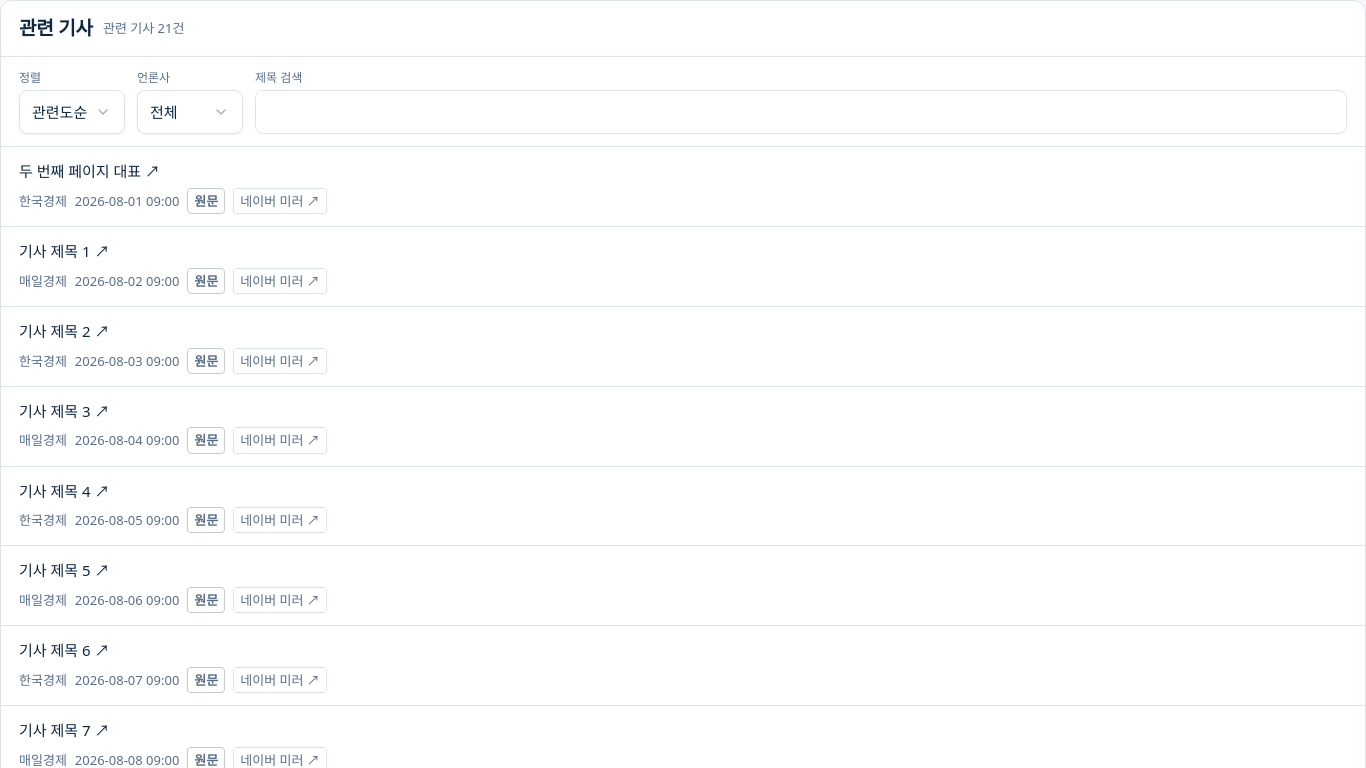
Test: ClusterArticlesList similar-article groups › focuses a visible duplicate when the canonical occurrence is on another page
Step 1. Select "최신순" in the dropdown labelled "정렬" → point(72, 112), box [19,90,125,134]
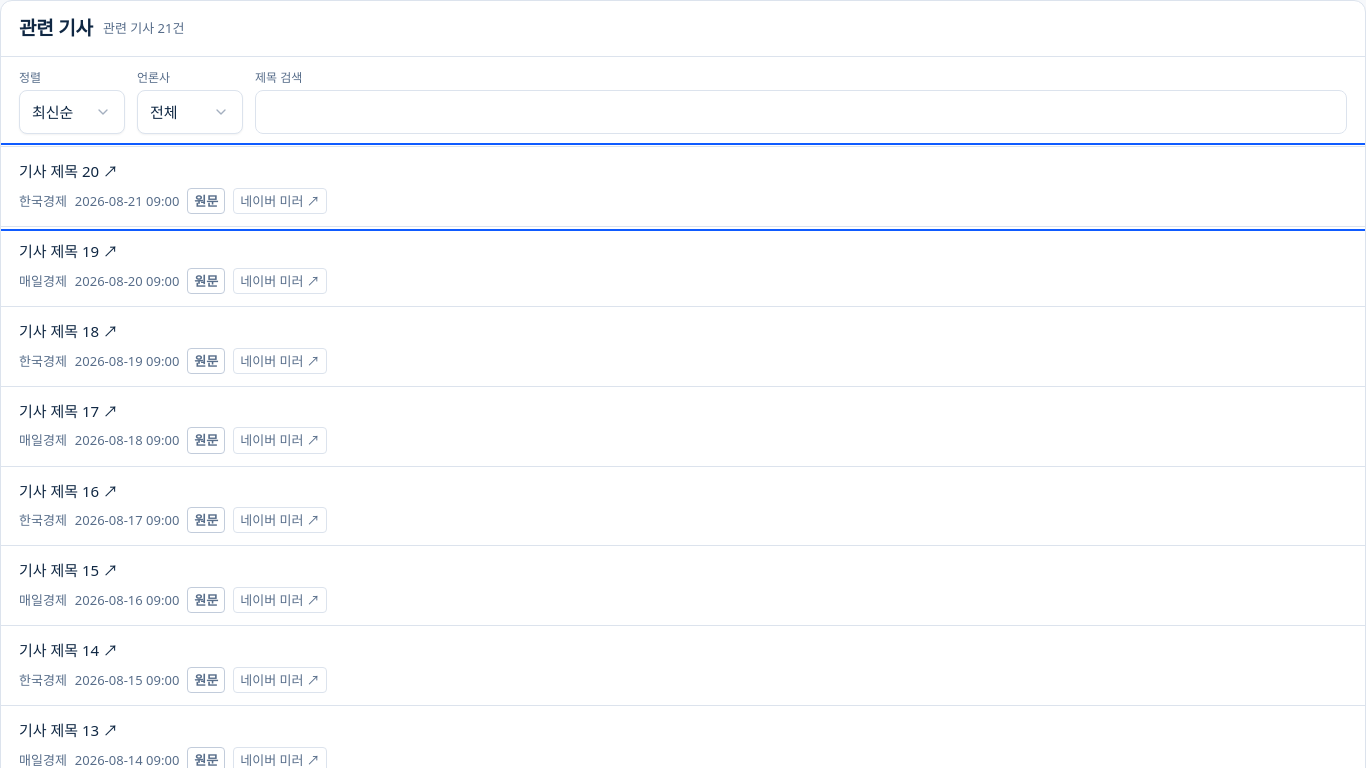
Expected: the link "두 번째 페이지 대표" is gone
Expected: the list item "기사 제목 20" is shown, [19,158,118,184]
